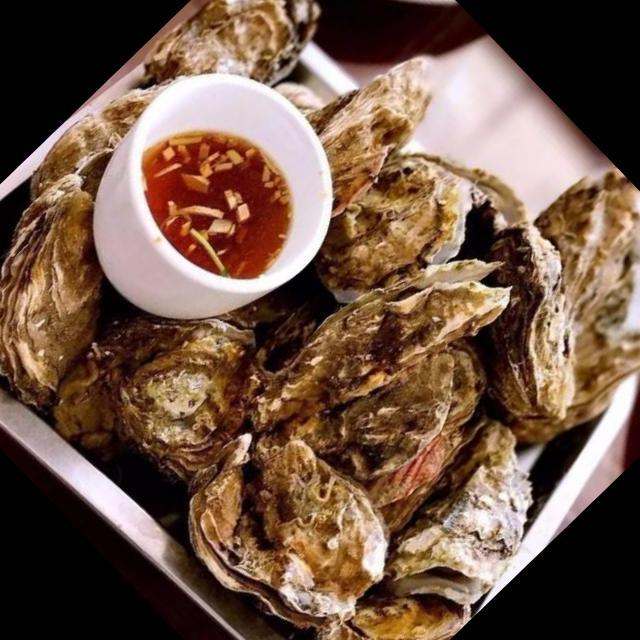Oyster- Indeterminate: (213, 247, 490, 524), (240, 249, 523, 436), (171, 424, 400, 637), (53, 305, 268, 499), (364, 409, 543, 609), (305, 147, 502, 309), (296, 44, 461, 233), (471, 207, 592, 436), (0, 169, 108, 421), (534, 153, 640, 350), (136, 0, 348, 86), (545, 314, 640, 448), (304, 590, 478, 640)
